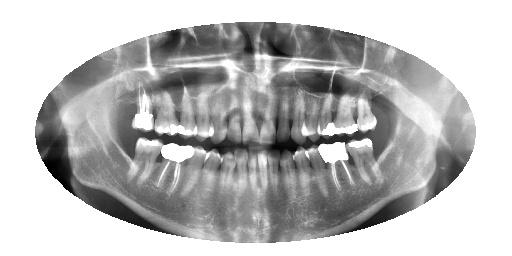i10healthy: (231, 144, 251, 213)
i11healthy: (216, 150, 240, 214)
i12healthy: (199, 147, 225, 212)
i13healthy: (182, 142, 210, 203)
i14healthy: (153, 138, 199, 202)
i15healthy: (124, 132, 167, 196)
i2healthy: (341, 132, 386, 189)
i3healthy: (316, 138, 361, 196)
i4healthy: (303, 144, 333, 199)
i5healthy: (289, 145, 312, 206)
i6healthy: (275, 146, 300, 211)
i7healthy: (264, 146, 282, 208)
i8healthy: (257, 146, 269, 203)
i9healthy: (243, 145, 261, 209)
u10healthy: (224, 88, 244, 149)
u11healthy: (206, 85, 231, 149)
u12healthy: (192, 87, 216, 146)
u13healthy: (175, 81, 200, 140)
u14healthy: (149, 84, 183, 138)
u15healthy: (126, 82, 156, 136)
u2healthy: (351, 86, 381, 136)
u3healthy: (324, 83, 361, 141)
u4healthy: (312, 87, 340, 140)
u5healthy: (298, 89, 324, 143)
u6healthy: (290, 85, 310, 149)
u7healthy: (271, 84, 292, 149)
u8healthy: (255, 85, 277, 148)
u9healthy: (235, 82, 261, 151)
